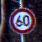Speed Limit -60-: (8, 7, 35, 33)
